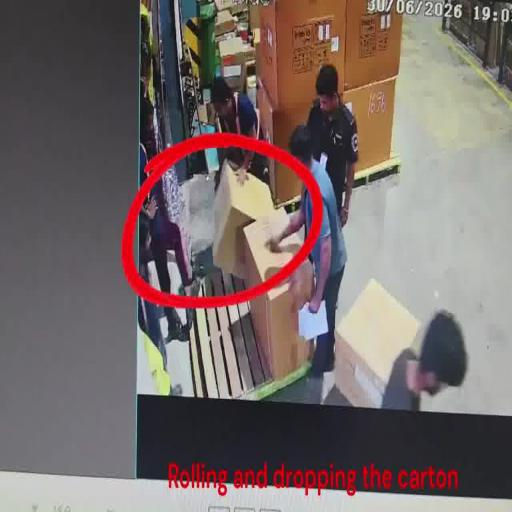carton: (242, 208, 316, 382), (332, 277, 420, 409), (256, 0, 344, 114), (210, 160, 276, 284), (342, 0, 404, 93), (259, 103, 312, 204), (344, 76, 398, 174)
pallet: (184, 249, 313, 402), (272, 156, 402, 214)
person: (264, 120, 348, 405), (138, 132, 194, 344), (380, 308, 470, 412), (308, 63, 360, 229), (206, 75, 270, 195), (138, 248, 182, 398)
